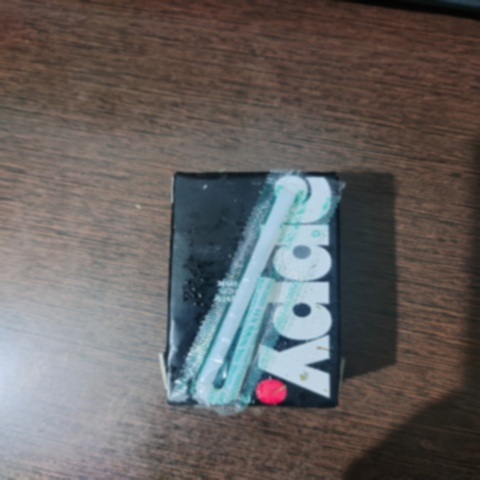appy: (146, 155, 347, 407)
